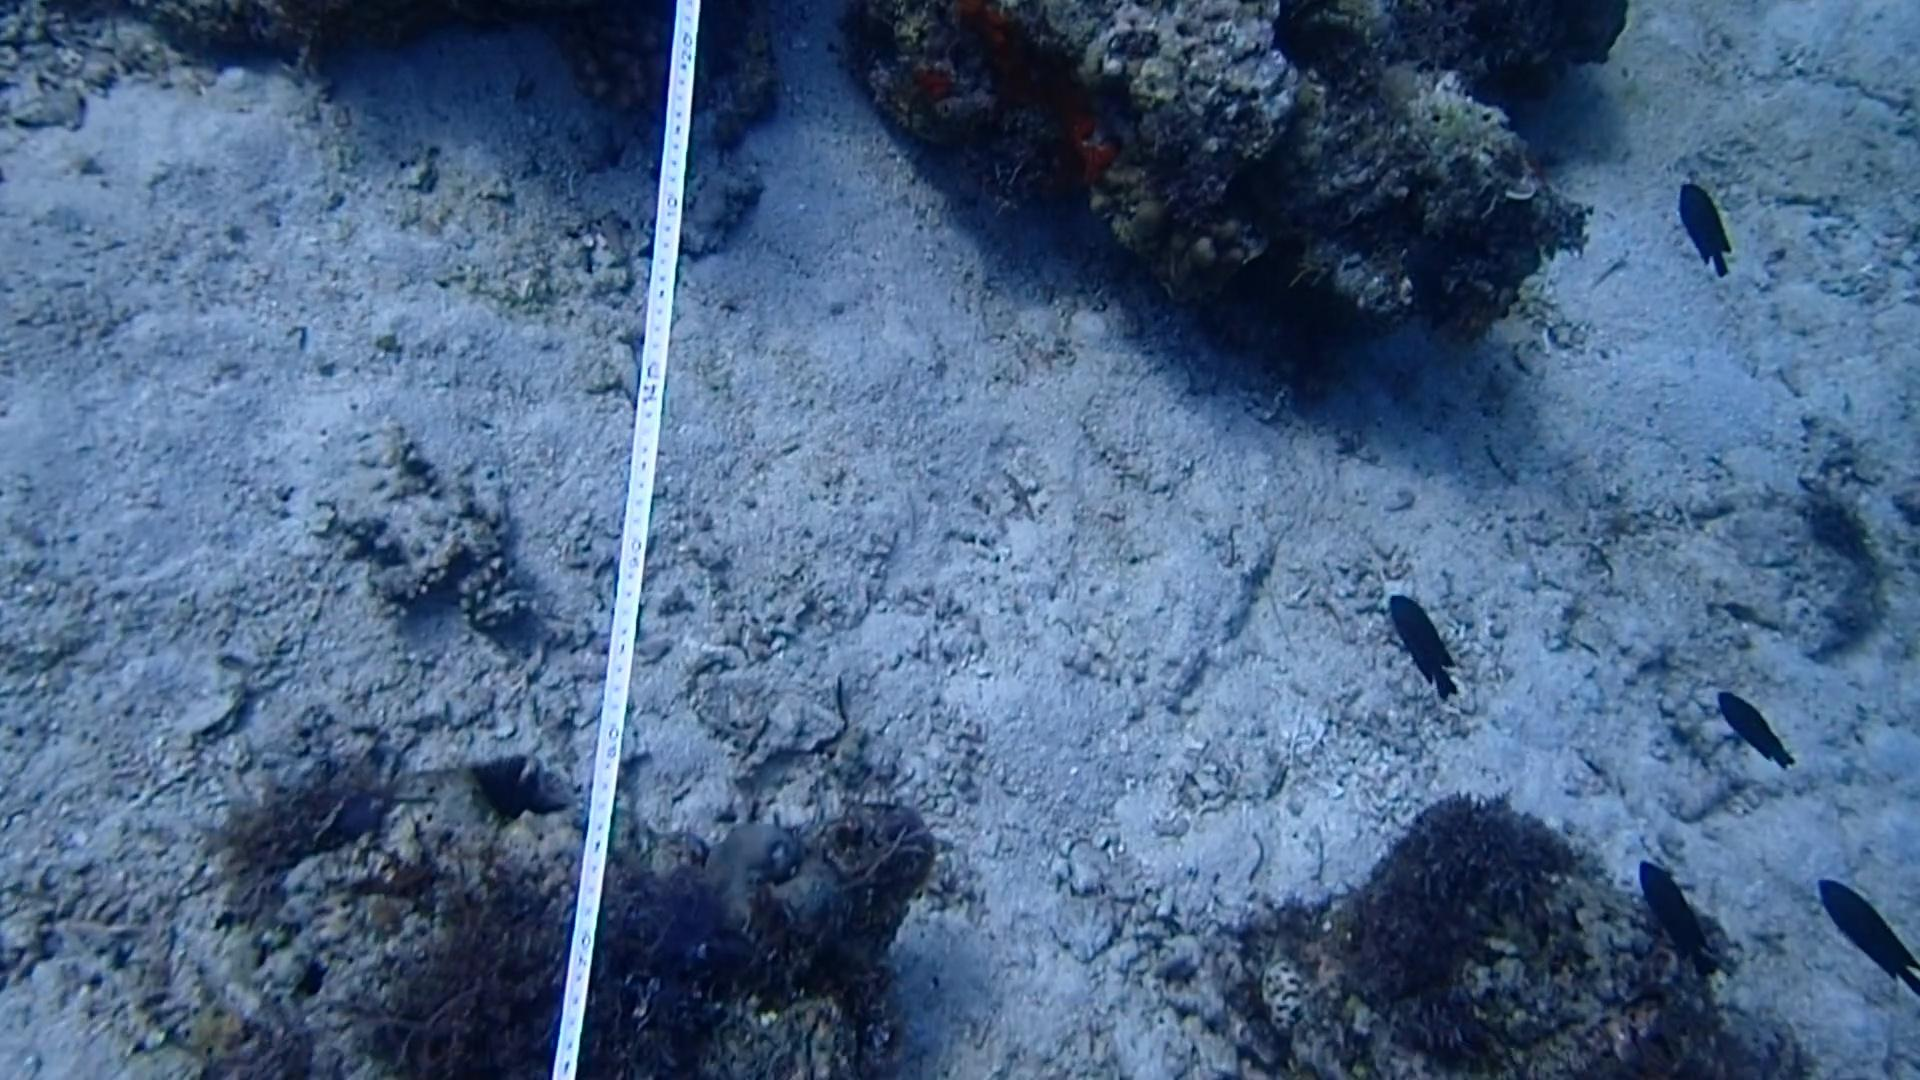Dark Fish: (1807, 860, 1920, 1004), (1630, 844, 1724, 978), (1383, 582, 1466, 713), (1710, 676, 1801, 778), (1673, 166, 1739, 286)
